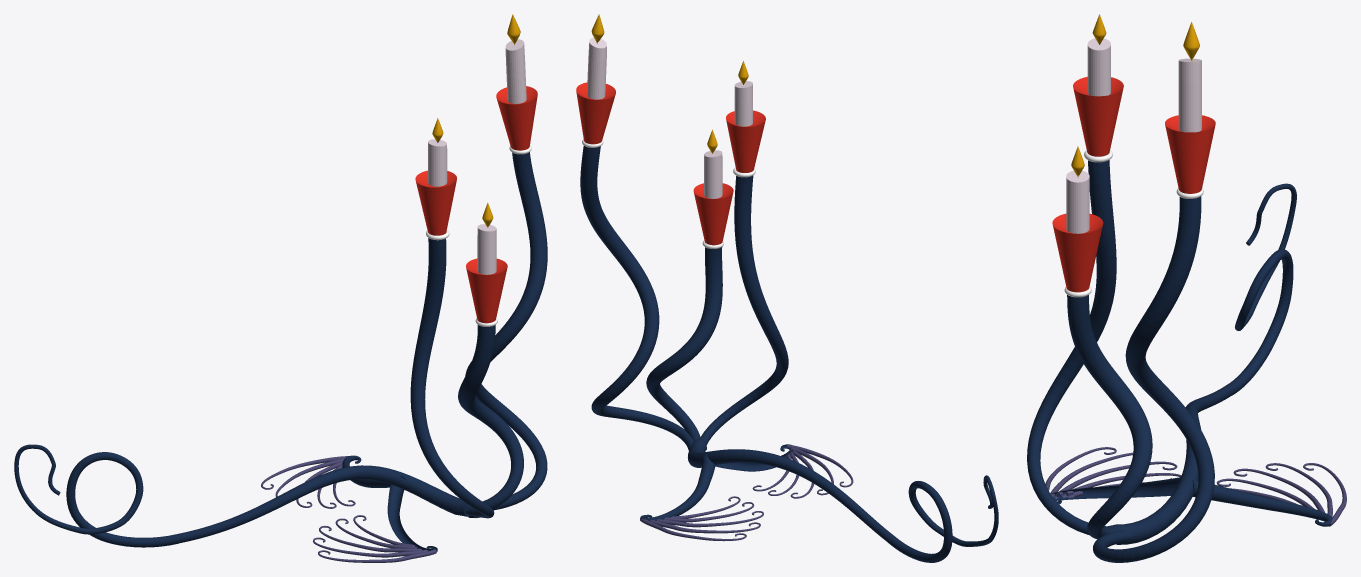
File: candle stand.fbx
3 views of the same model, side by side, from view 1: azimuth 30°, elevation 25°; view 2: azimuth 150°, elevation 25°; view 3: azimuth 270°, elevation 25° (orthographic). The views are drawn at different scales.
Parts seen in each view (by area): view 1: candle stand; view 2: candle stand; view 3: candle stand.
Part boxes in pixels (x1,y1,x2,y2): candle stand: [14, 14, 547, 562]; candle stand: [576, 14, 998, 562]; candle stand: [1027, 14, 1346, 562].
Bounding box in the file's own units: 1.92 × 1.78 × 0.9094.
